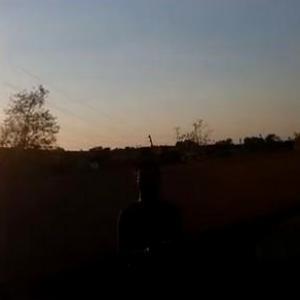follow: (111, 150, 194, 299)
